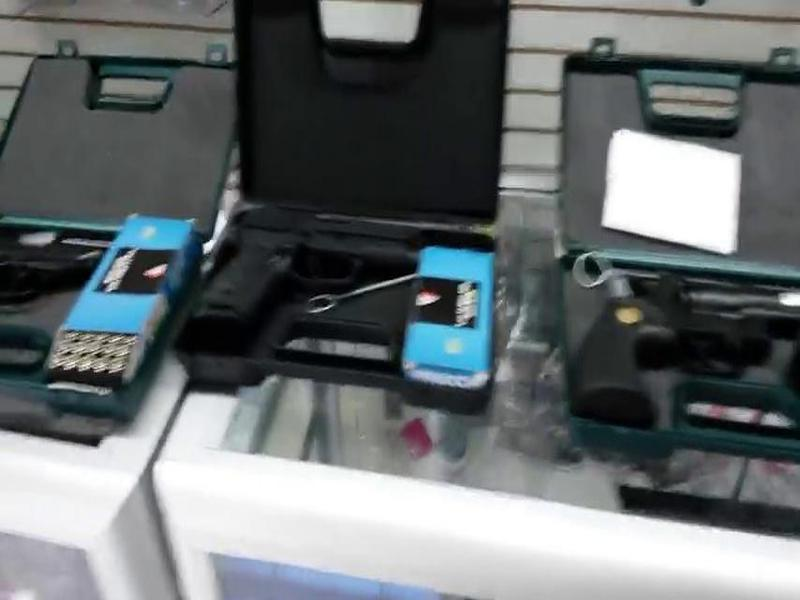Pistola: (187, 191, 429, 367)
